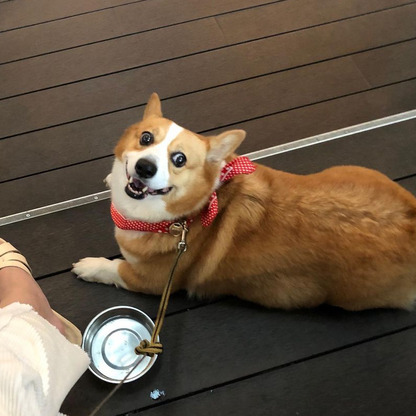Corgi: (77, 95, 407, 324)
